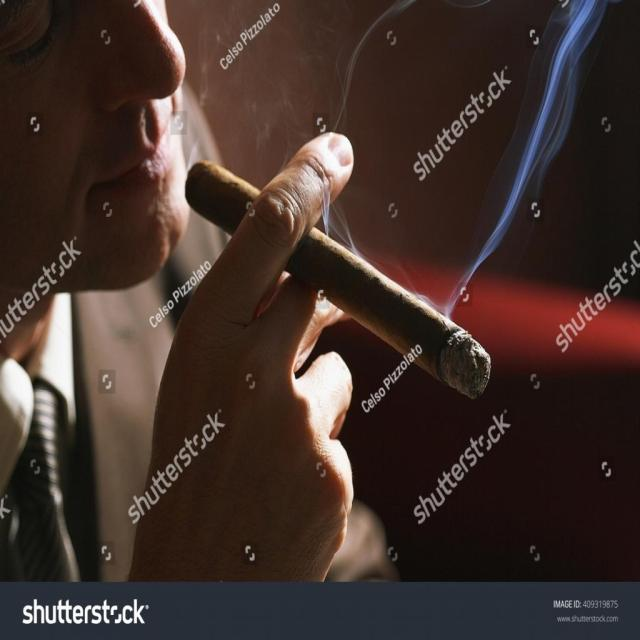smoking: (280, 225, 507, 405), (173, 152, 262, 236)
